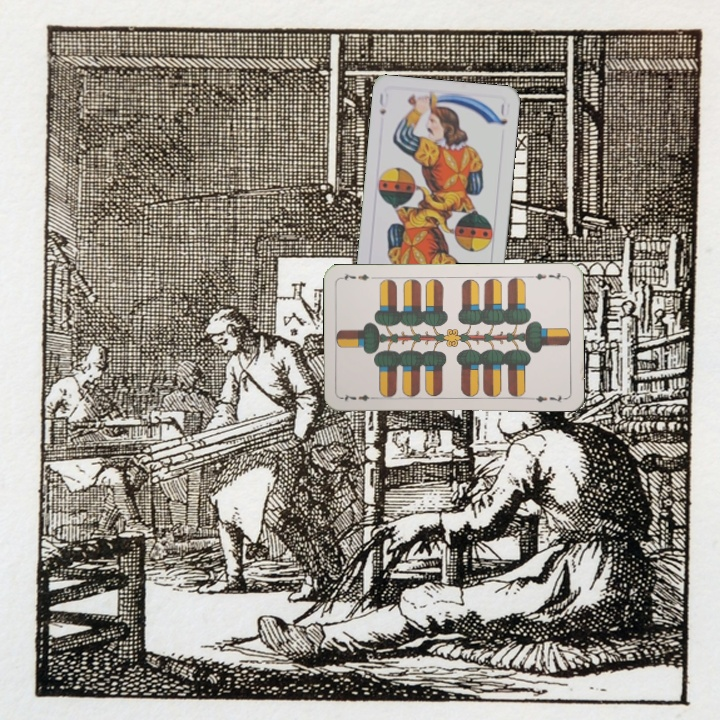E7: (527, 269, 567, 283), (339, 390, 379, 404)
SU: (375, 89, 391, 117)
